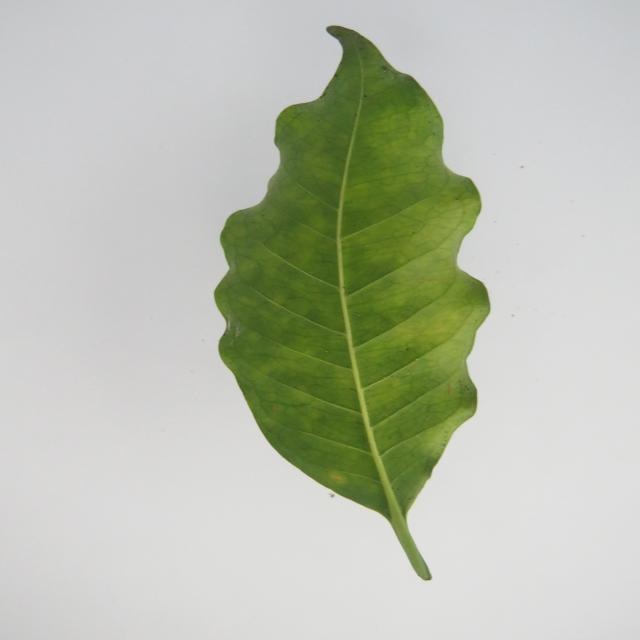DeficienciaNutricional-Calcio: (215, 26, 490, 580)
